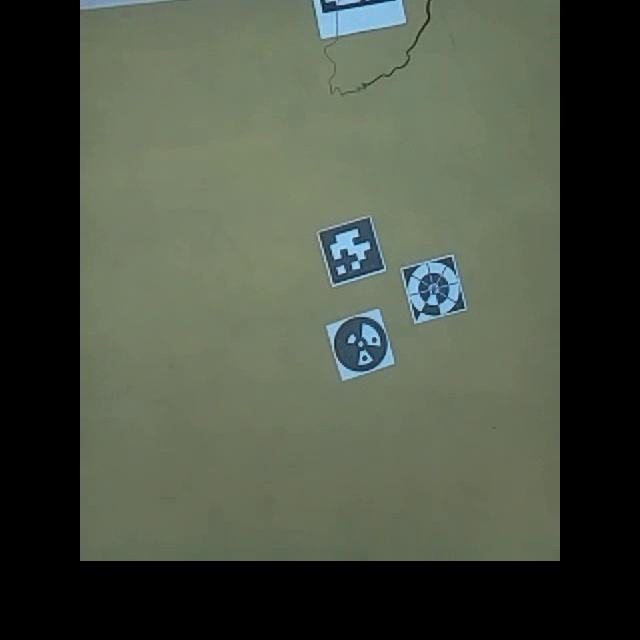landing-zone: (400, 256, 469, 323)
